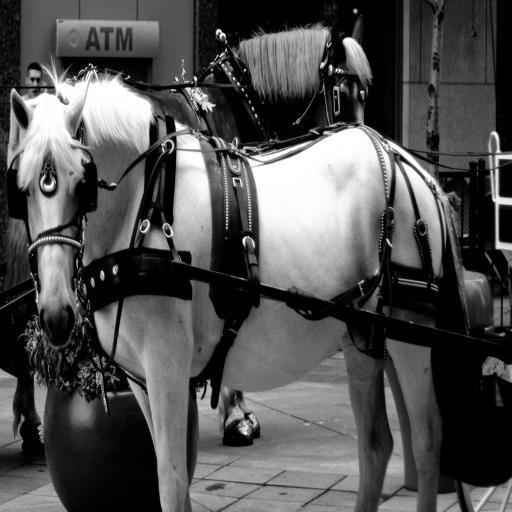horse: (8, 52, 446, 512), (6, 18, 374, 448), (0, 242, 38, 446)
